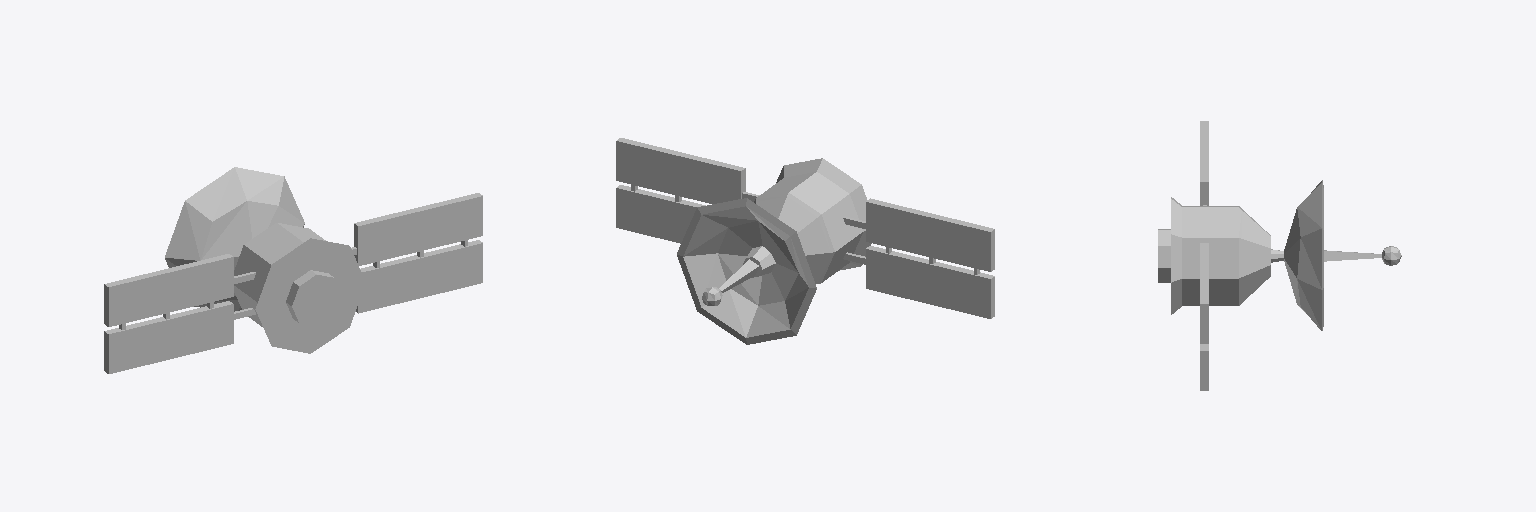
The model's file is fly.obj.
3 renders of one model, left to right at view 1: azimuth 30°, elevation 25°; view 2: azimuth 150°, elevation 25°; view 3: azimuth 270°, elevation 25°, orthographic.
Visible parts, largest first — view 1: 卫星.1; view 2: 卫星.1; view 3: 卫星.1.
Boxes of the visible parts, <box> form: 卫星.1: <box>104,167,482,373</box>; 卫星.1: <box>616,138,994,344</box>; 卫星.1: <box>1158,121,1401,390</box>.
Size of the model in its own units: 1629 by 612 by 918.